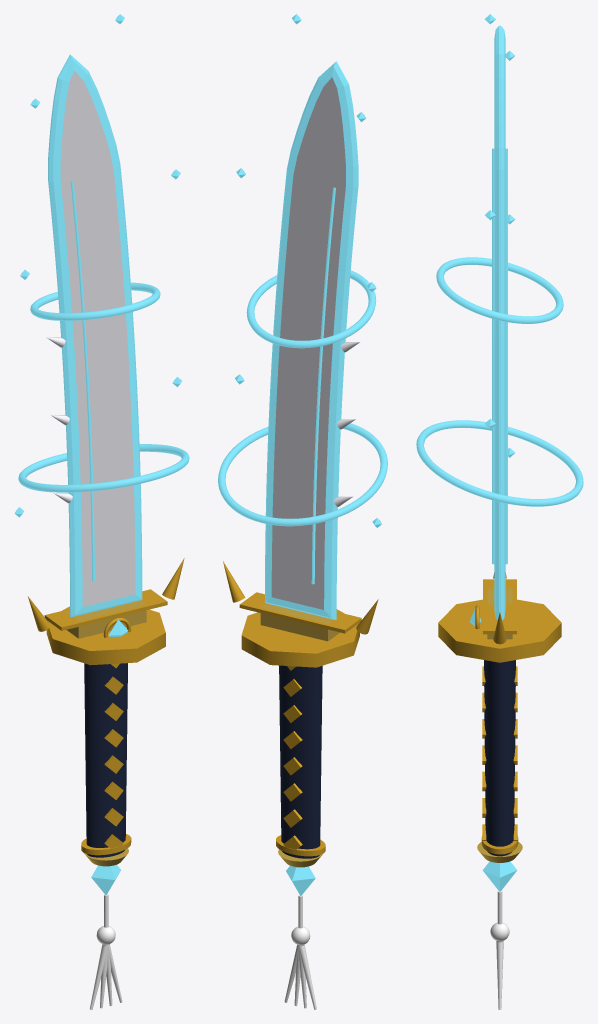
File: 29_Legendary_Celestial_Edge.glb
3 renders of one model, left to right at view 1: azimuth 30°, elevation 25°; view 2: azimuth 150°, elevation 25°; view 3: azimuth 270°, elevation 25°, orthographic.
Visible parts, largest first — view 1: blade_3, handle_14, tsuba_0, aura_ring_40, aura_ring_41, blade_inlay_43, guard_trim_44, habaki_1, pommel_gem_33, grip_ring_50; view 2: blade_3, handle_14, tsuba_0, aura_ring_40, aura_ring_41, blade_inlay_42, habaki_1, guard_trim_44, pommel_gem_33, grip_ring_50; view 3: blade_3, handle_14, tsuba_0, aura_ring_40, aura_ring_41, blade_inlay_42, guard_trim_44, blade_inlay_43, pommel_gem_33, tassel_strand_39.
Boxes of the visible parts, box(x1,y1,x2,y2) form: blade_3: box(48, 54, 142, 617); handle_14: box(84, 663, 127, 857); tsuba_0: box(46, 606, 165, 665); aura_ring_40: box(18, 444, 189, 492); aura_ring_41: box(30, 282, 160, 320); blade_inlay_43: box(70, 181, 94, 581); guard_trim_44: box(44, 589, 167, 630); habaki_1: box(66, 600, 146, 638); pommel_gem_33: box(91, 864, 120, 894); grip_ring_50: box(81, 834, 131, 855); blade_3: box(265, 61, 358, 619); handle_14: box(279, 665, 322, 858); tsuba_0: box(241, 609, 359, 667); aura_ring_40: box(218, 423, 387, 526); aura_ring_41: box(246, 270, 376, 348); blade_inlay_42: box(311, 187, 335, 584); habaki_1: box(260, 603, 339, 641); guard_trim_44: box(239, 592, 361, 633); pommel_gem_33: box(286, 865, 315, 895); grip_ring_50: box(276, 835, 325, 856); blade_3: box(494, 25, 505, 620); handle_14: box(484, 660, 515, 856); tsuba_0: box(438, 599, 561, 662); aura_ring_40: box(416, 420, 583, 506); aura_ring_41: box(436, 257, 563, 323); blade_inlay_42: box(505, 148, 507, 564); guard_trim_44: box(483, 579, 516, 634); blade_inlay_43: box(492, 148, 494, 564); pommel_gem_33: box(482, 861, 517, 891); tassel_strand_39: box(496, 941, 503, 1009).
Size of the model in its own units: 0.1971 by 1.13 by 0.1725.
10 materials, 10 textured.
